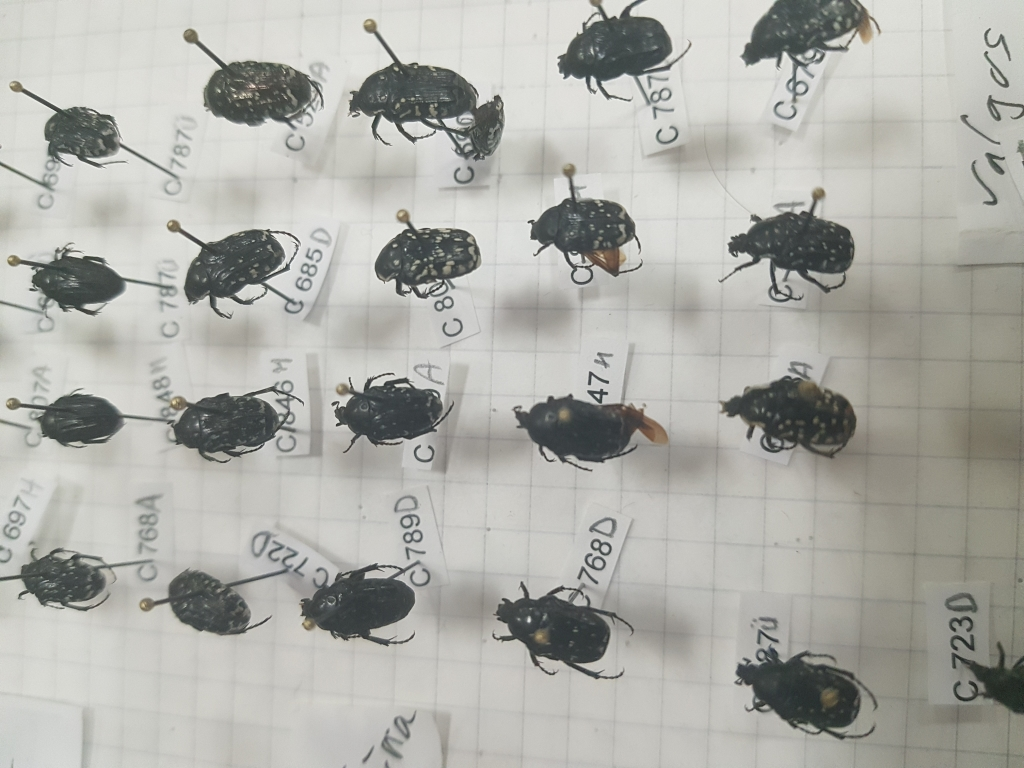Oxythyrea_albopicta: (715, 203, 863, 303), (179, 227, 308, 323), (158, 388, 312, 463), (196, 55, 328, 139), (525, 197, 646, 280), (361, 223, 480, 304)
